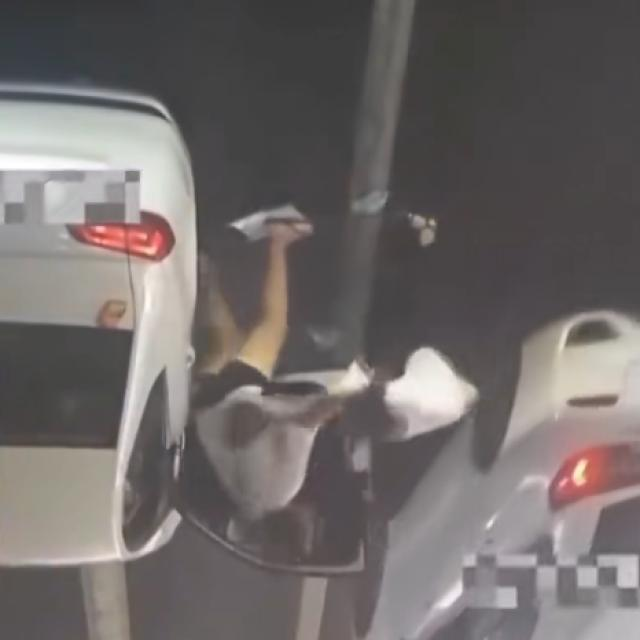fight: (236, 354, 471, 558)
